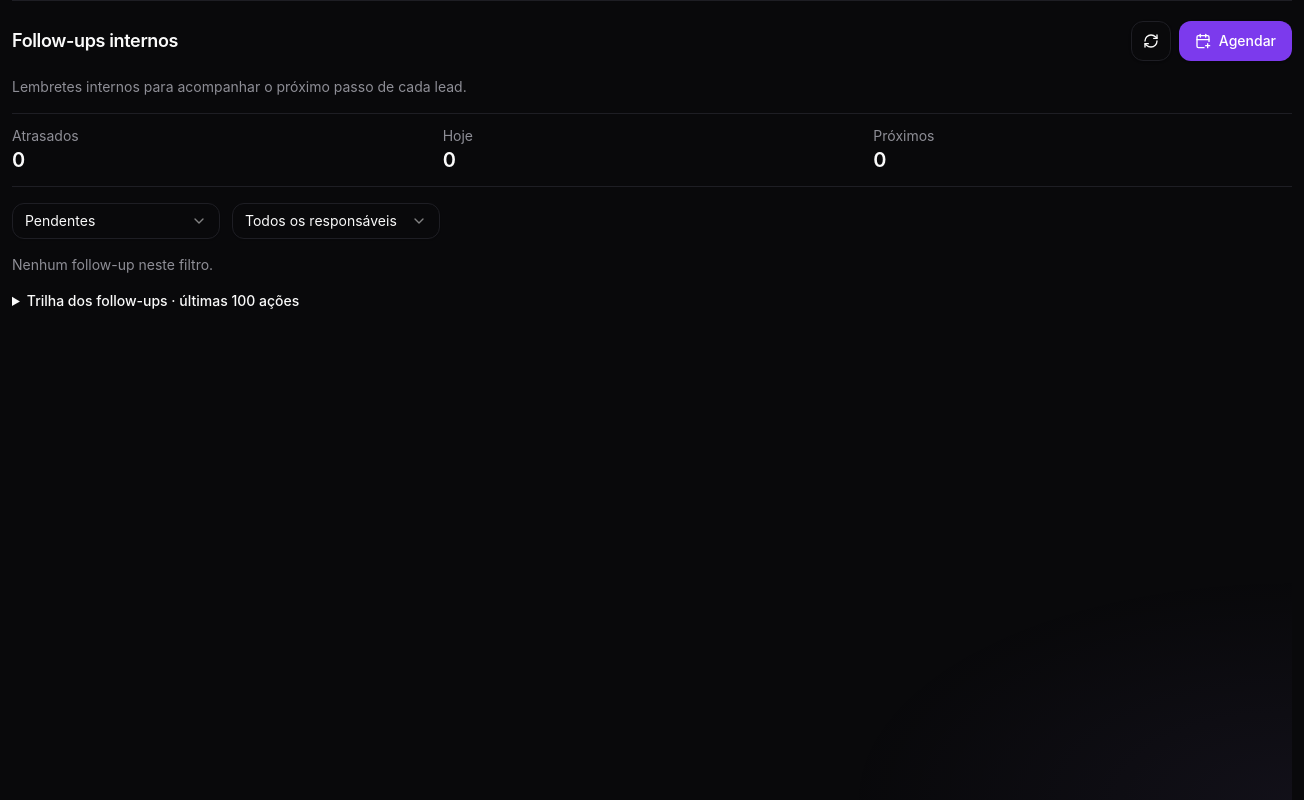
Scenario: falha ao salvar preserva campos e retry não duplica operação
The width and height of the screenshot is (1304, 800).
Later steps or results of the test are not shown.
Click the button "Agendar" at (1235, 41), box left=1179, top=21, right=1292, bottom=61
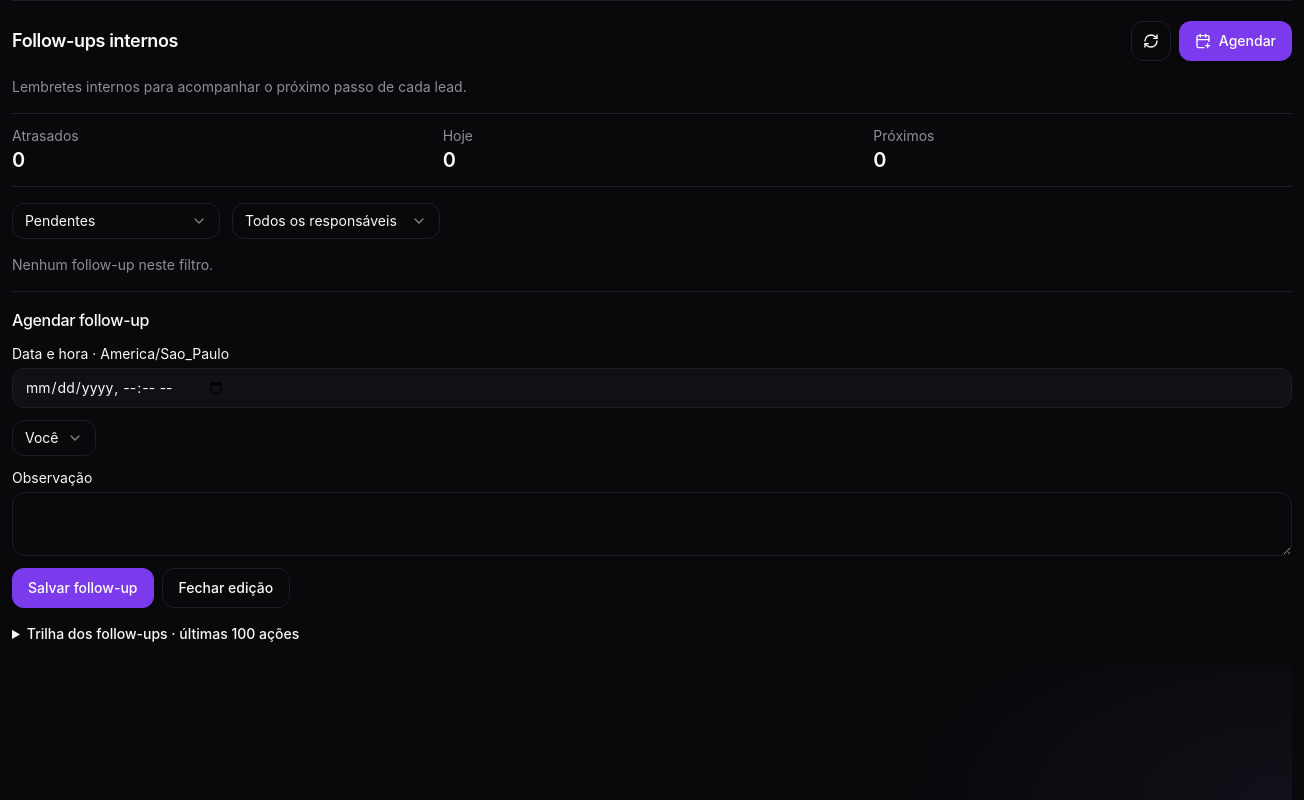
Type "2026-11-19T09:30" into the field named "Data e hora do follow-up" at (652, 388), box left=12, top=368, right=1292, bottom=408
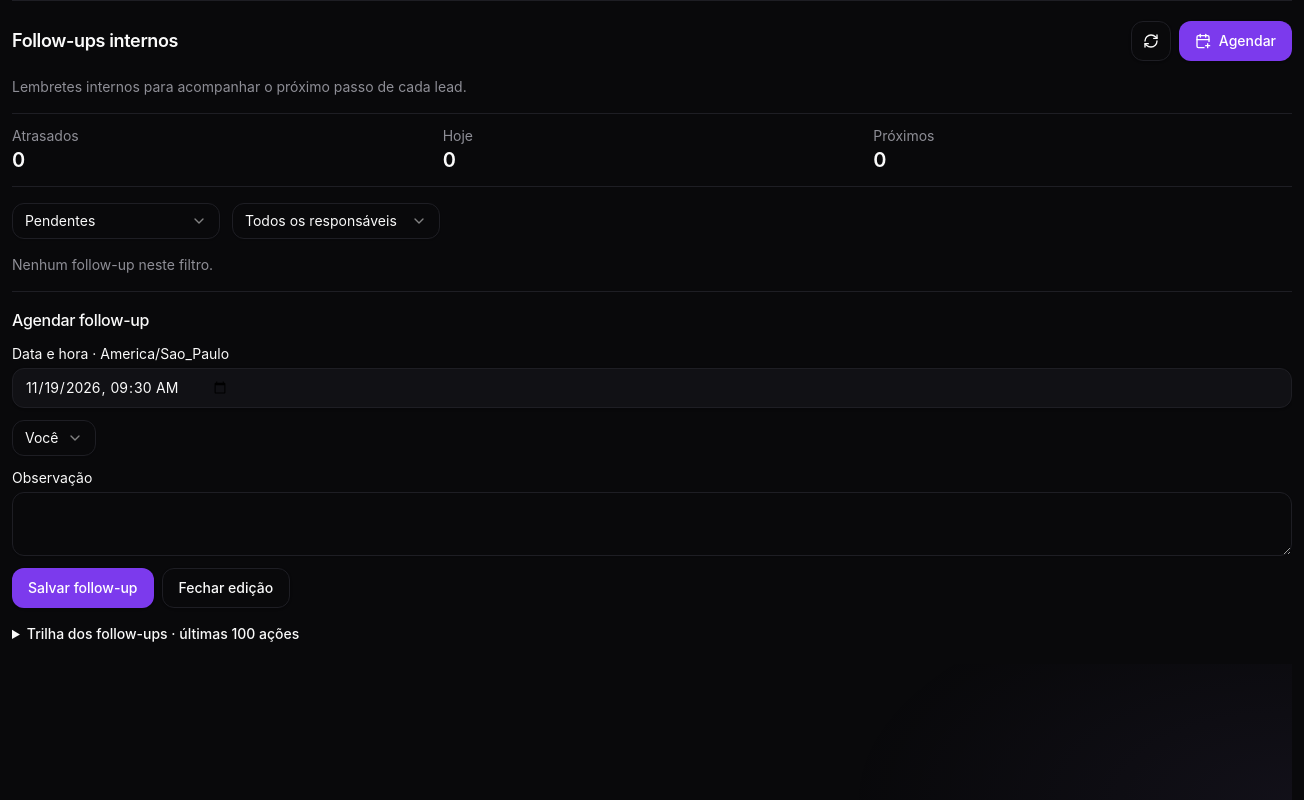
Type "Revisar proposta" into the text box named "Observação do follow-up" at (652, 524), box left=12, top=492, right=1292, bottom=556
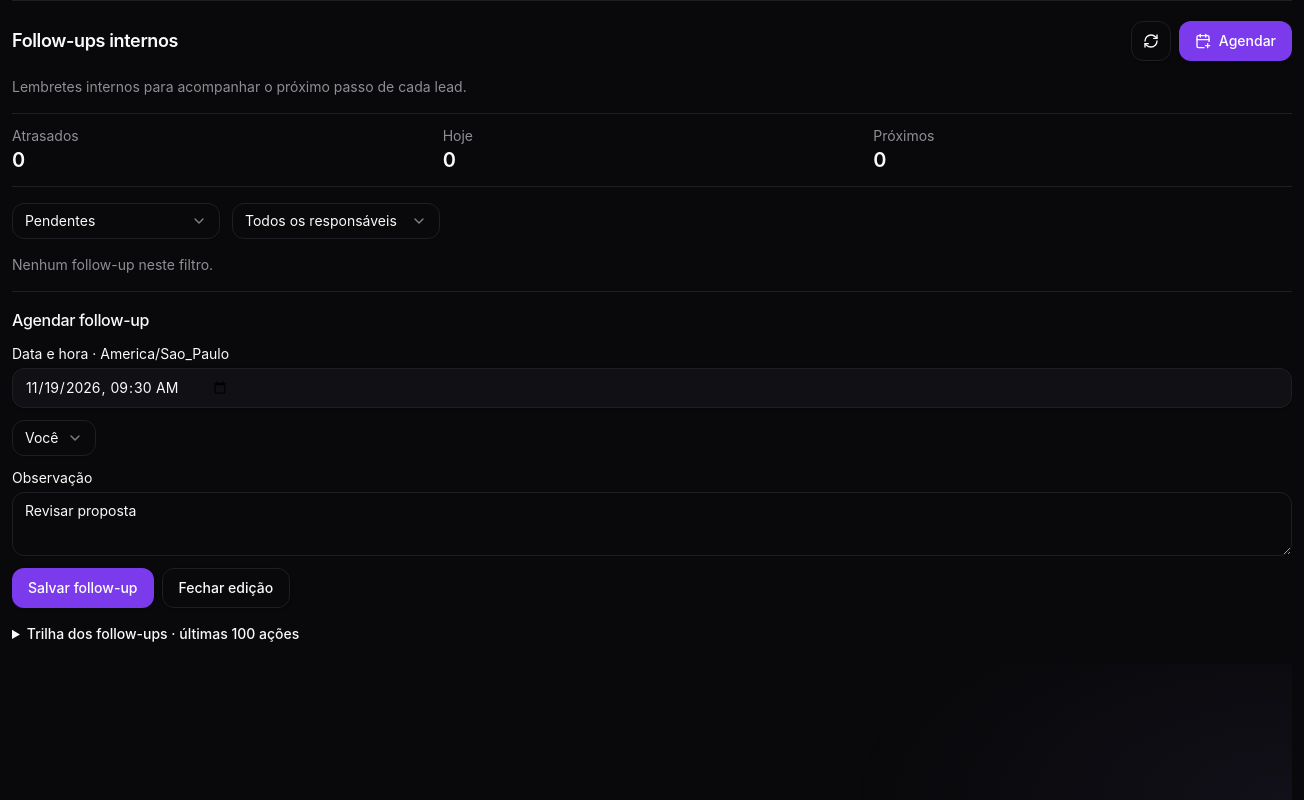
Click the button "Salvar follow-up" at (83, 588), box left=12, top=568, right=154, bottom=608
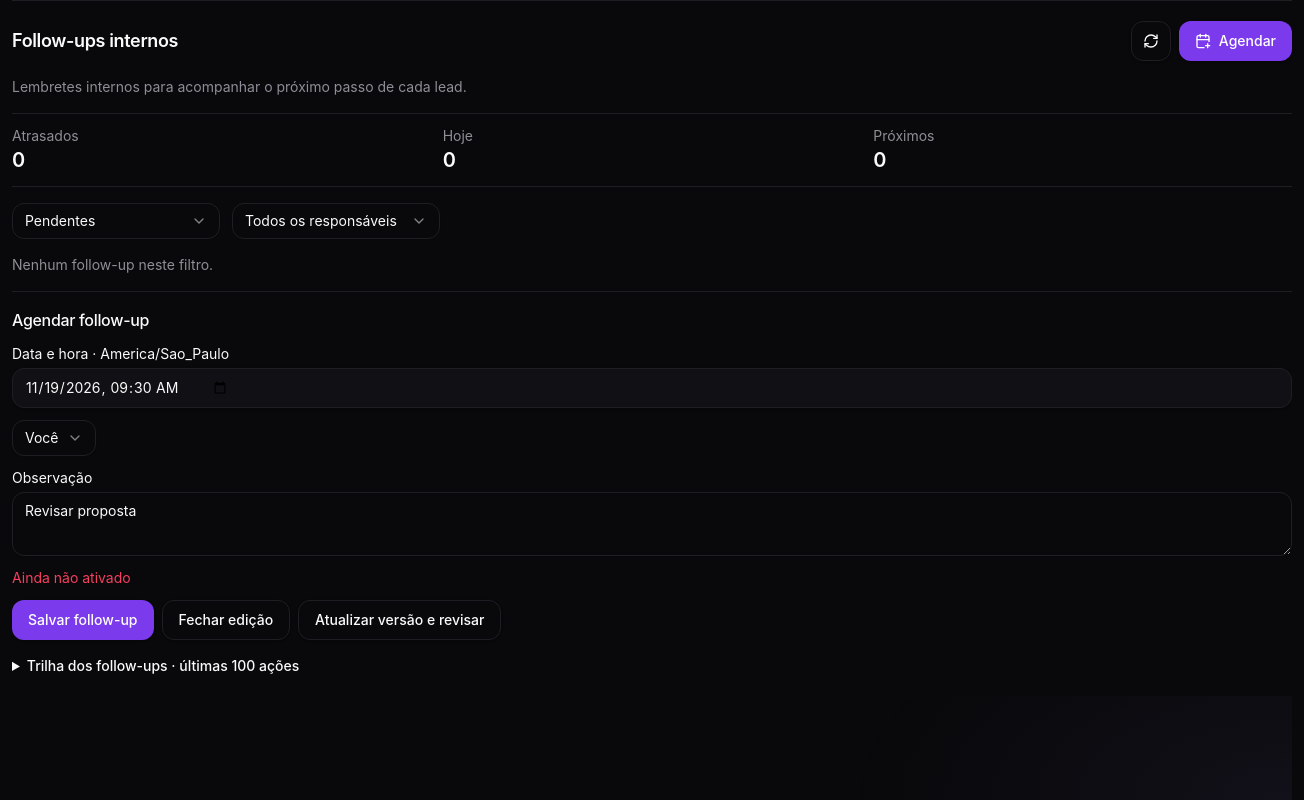
Expected: the message "Ainda não ativado" is shown, left=12, top=569, right=131, bottom=586
